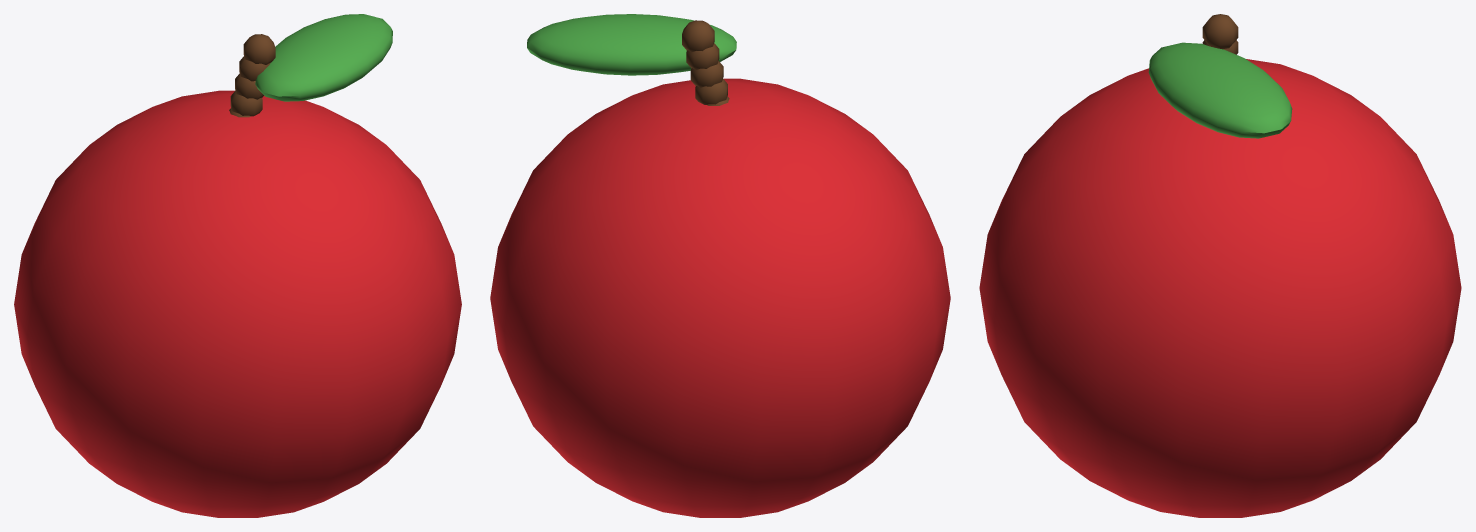
Rendered from apple.glb.
3 renders of one model, left to right at view 1: azimuth 30°, elevation 25°; view 2: azimuth 150°, elevation 25°; view 3: azimuth 270°, elevation 25°, orthographic. The views are drawn at different scales.
Visible parts, largest first — view 1: apple; view 2: apple; view 3: apple.
Boxes of the visible parts, x1,y1,x2,y2 form: apple: [14, 14, 461, 517]; apple: [490, 14, 950, 517]; apple: [979, 14, 1461, 517].
Bounding box in the file's own units: 0.8863 × 1.01 × 0.9.
